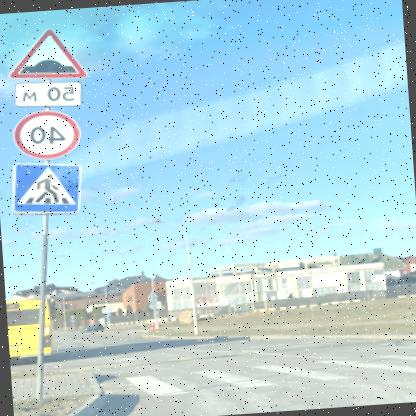crosswalk: (8, 157, 86, 217)
speedlimit: (14, 108, 82, 161)
